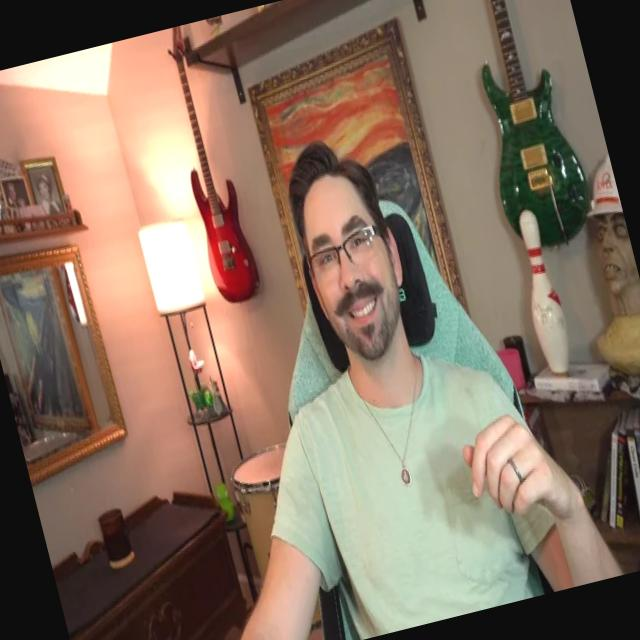Hand: (452, 398, 586, 548)
